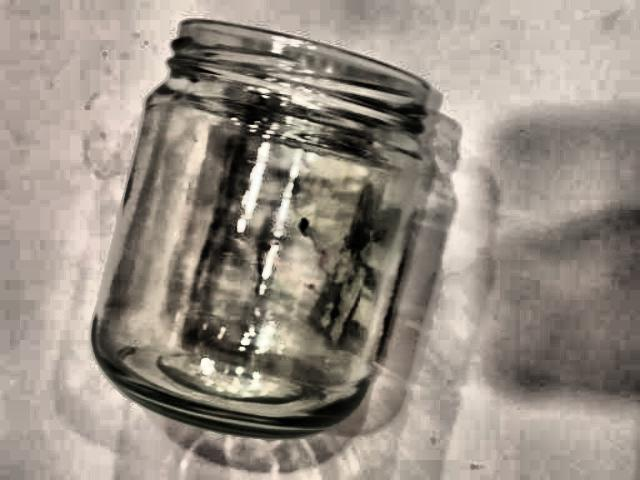Almennt: (80, 11, 464, 475)
